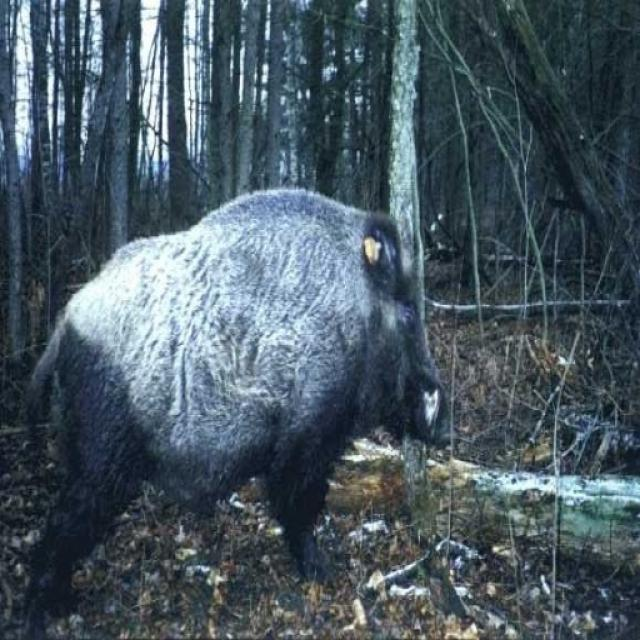pig: (27, 186, 459, 631)
